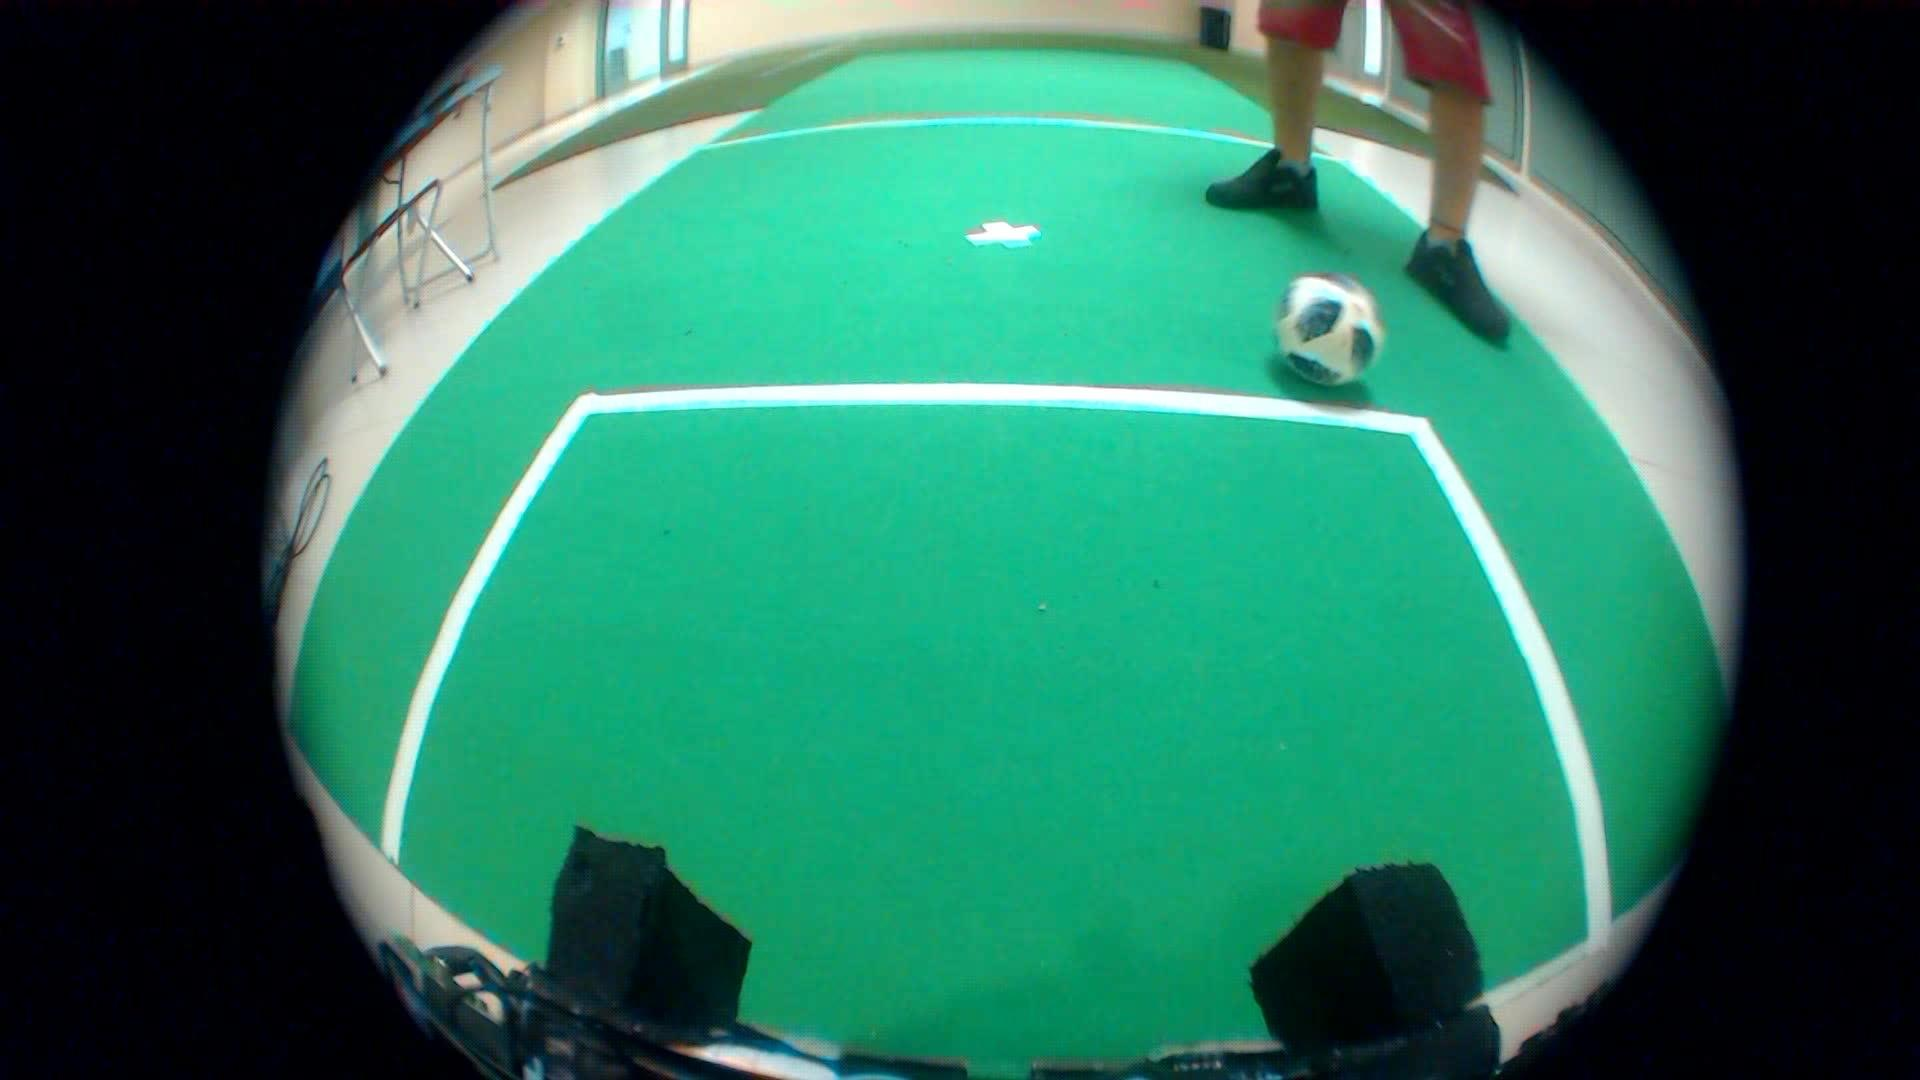ball: (1262, 272, 1383, 396)
